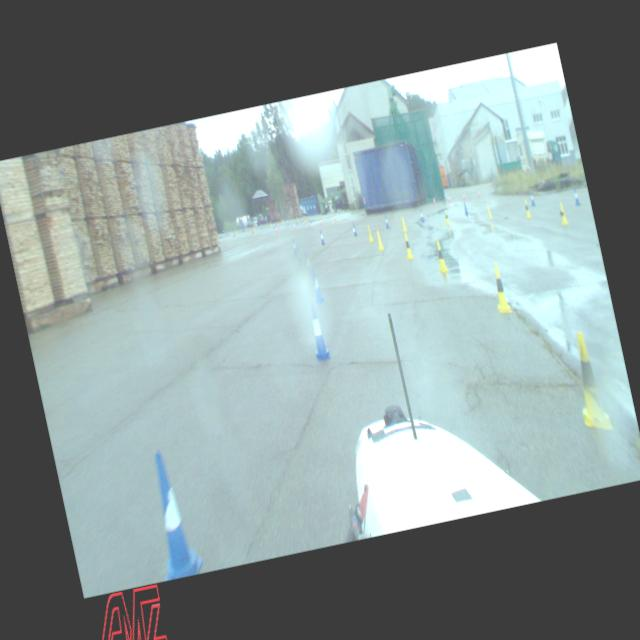blue_cone: (138, 446, 206, 580), (304, 304, 330, 362), (309, 266, 324, 302), (301, 250, 314, 284), (572, 186, 581, 206), (528, 190, 536, 207), (318, 229, 325, 245), (291, 237, 298, 253), (382, 214, 390, 228), (462, 200, 469, 216), (352, 222, 358, 236), (418, 208, 424, 222), (286, 218, 289, 224)
orange_cone: (446, 194, 452, 202), (333, 212, 337, 222), (306, 218, 310, 228), (462, 191, 466, 200), (274, 226, 278, 234), (318, 217, 322, 225), (292, 222, 296, 230), (432, 197, 436, 204), (277, 222, 280, 228)
yellow_cone: (565, 328, 612, 434), (488, 261, 512, 315), (432, 238, 448, 272), (401, 232, 414, 260), (556, 200, 568, 226), (374, 228, 384, 250), (522, 198, 531, 218), (365, 224, 374, 242), (484, 202, 492, 220), (399, 214, 407, 232), (444, 209, 451, 225), (304, 215, 306, 222)
